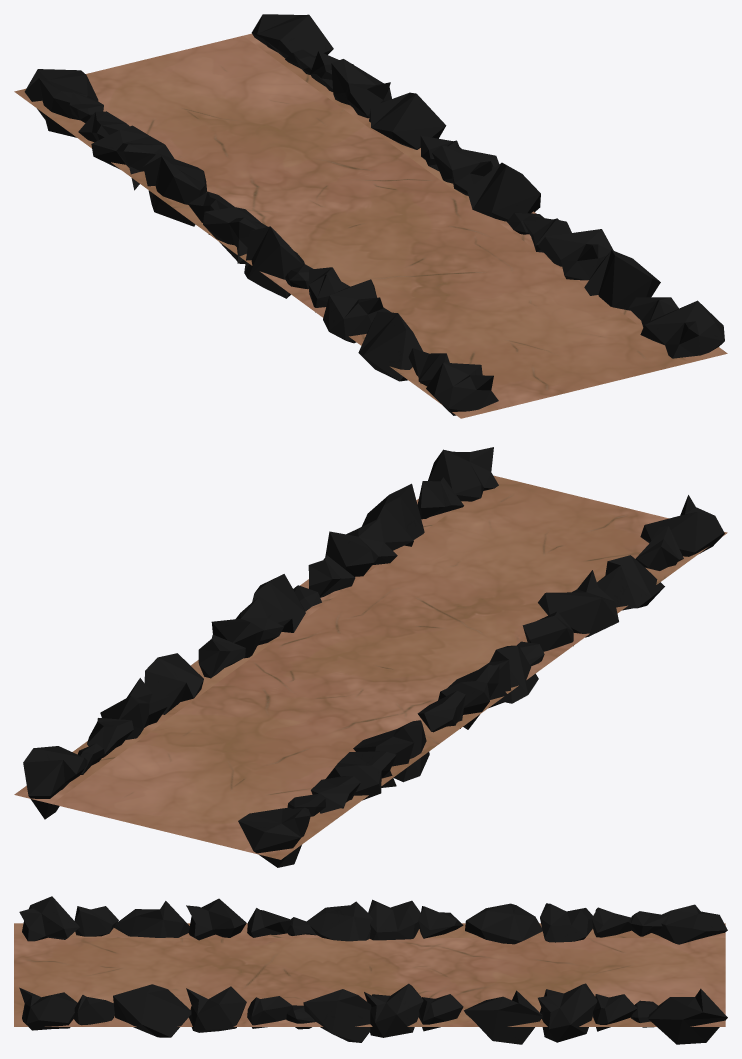
Rendered from Ground1.fbx.
3 renders of one model, top to bottom at view 1: azimuth 30°, elevation 25°; view 2: azimuth 150°, elevation 25°; view 3: azimuth 270°, elevation 25°, orthographic. The views are drawn at different scales.
Visible parts, largest first — view 1: Plane; view 2: Plane; view 3: Plane.
Part boxes in pixels (left/top/right/bottom): Plane: left=14, top=14, right=727, bottom=418; Plane: left=14, top=447, right=727, bottom=867; Plane: left=14, top=896, right=727, bottom=1044.
Size of the model in its own units: 754 by 173 by 2007.
1 material, 1 textured.
